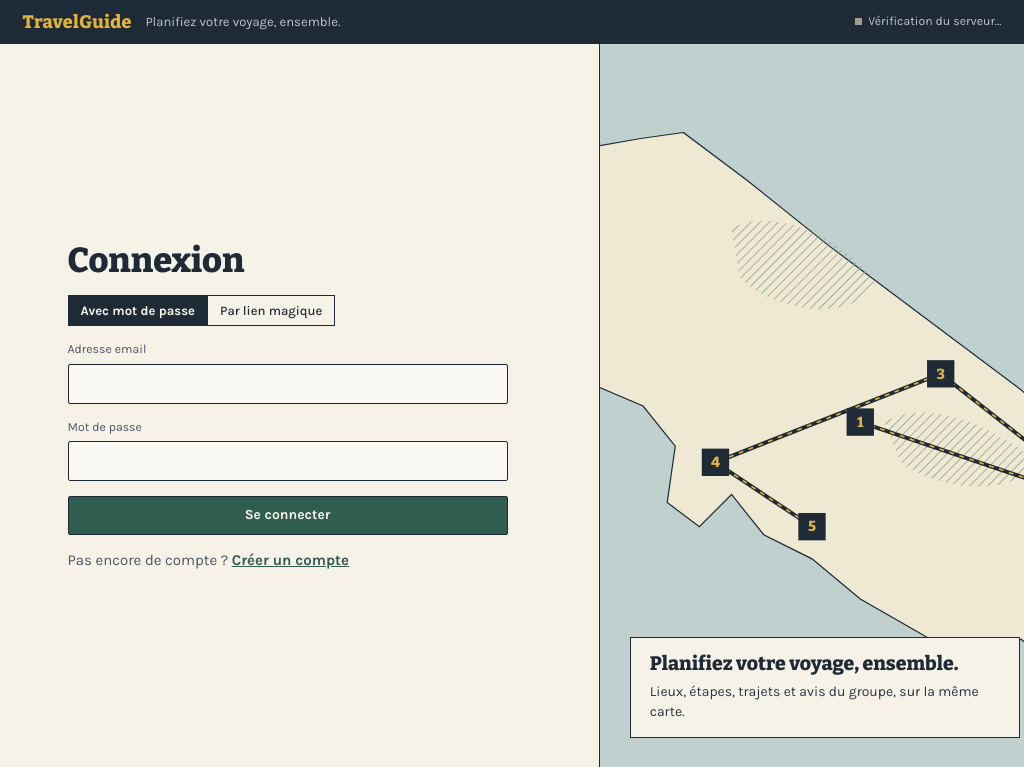
Scenario: authentification › connecte avec mot de passe puis revient à la page demandée
In the field labelled "Adresse email": [288, 384] box x1=68 y1=364 x2=508 y2=404, type "ana@example.com"
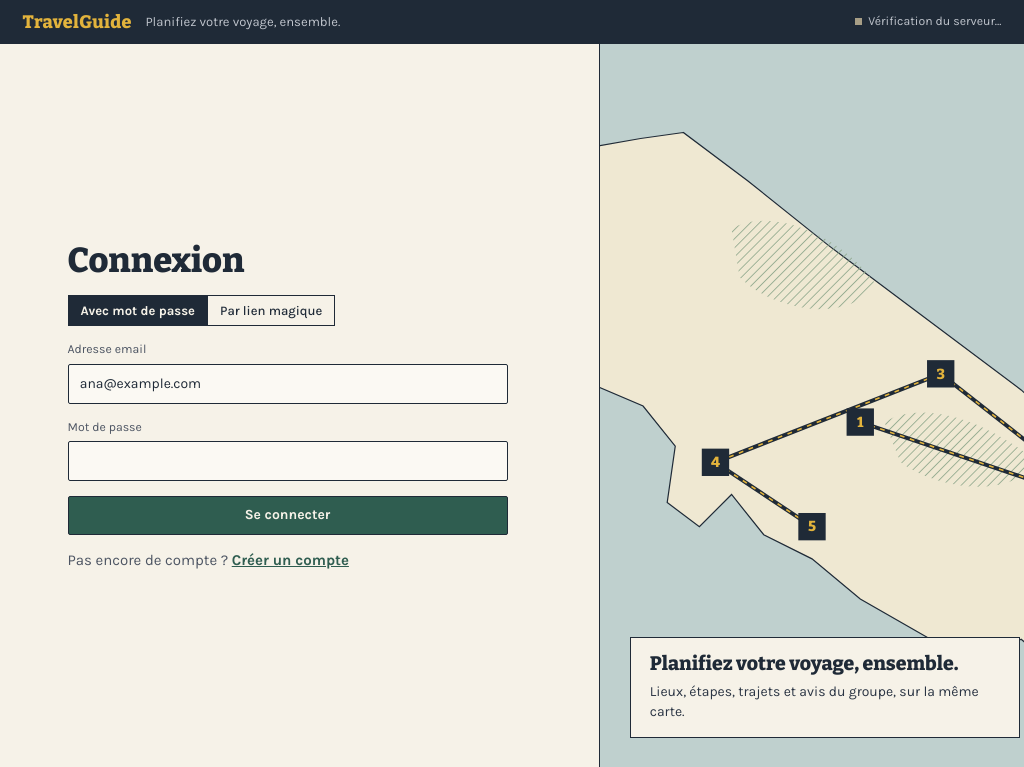
In the password field labelled "Mot de passe": [288, 461] box x1=68 y1=441 x2=508 y2=482, type "motdepasse-solide"
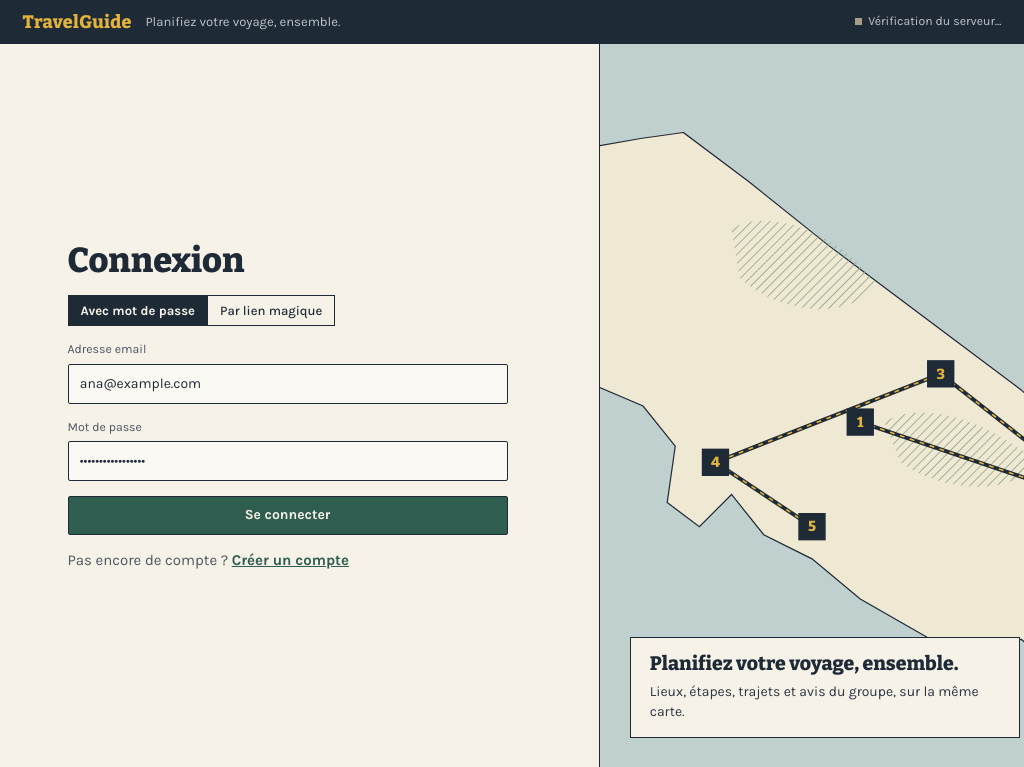
Click the button "Se connecter": [288, 516] box x1=68 y1=496 x2=508 y2=535
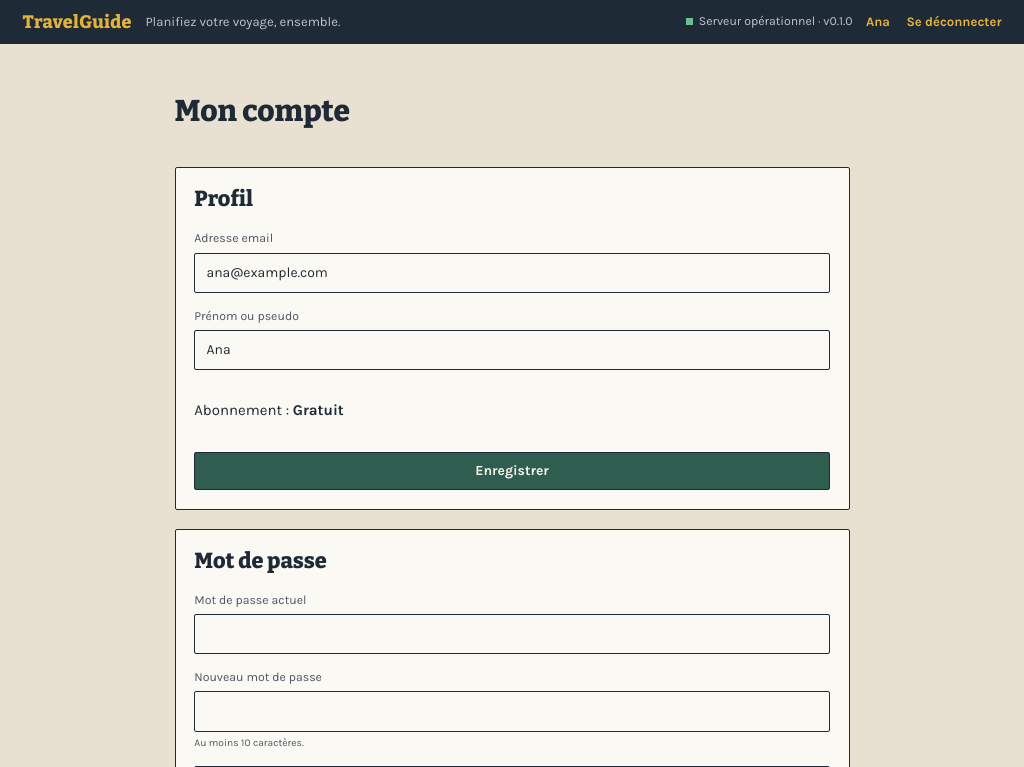
Check: the heading "Mon compte" is shown, box x1=174 y1=93 x2=350 y2=129
